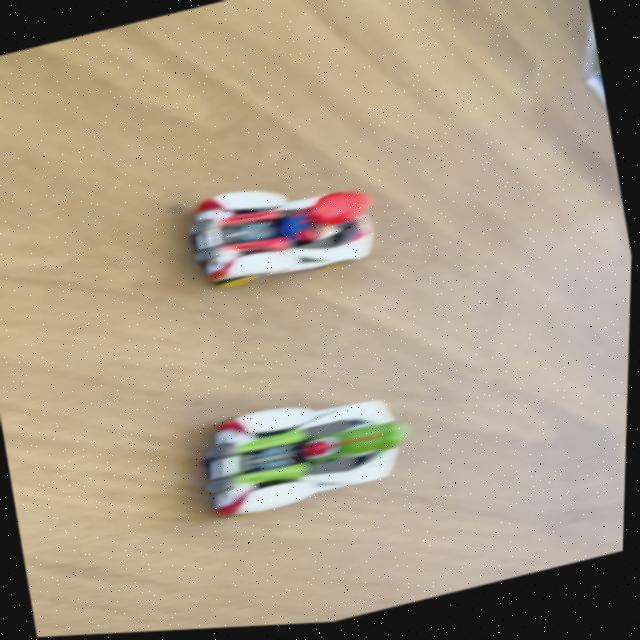mario: (155, 157, 407, 321)
yoshi: (171, 364, 447, 537)
